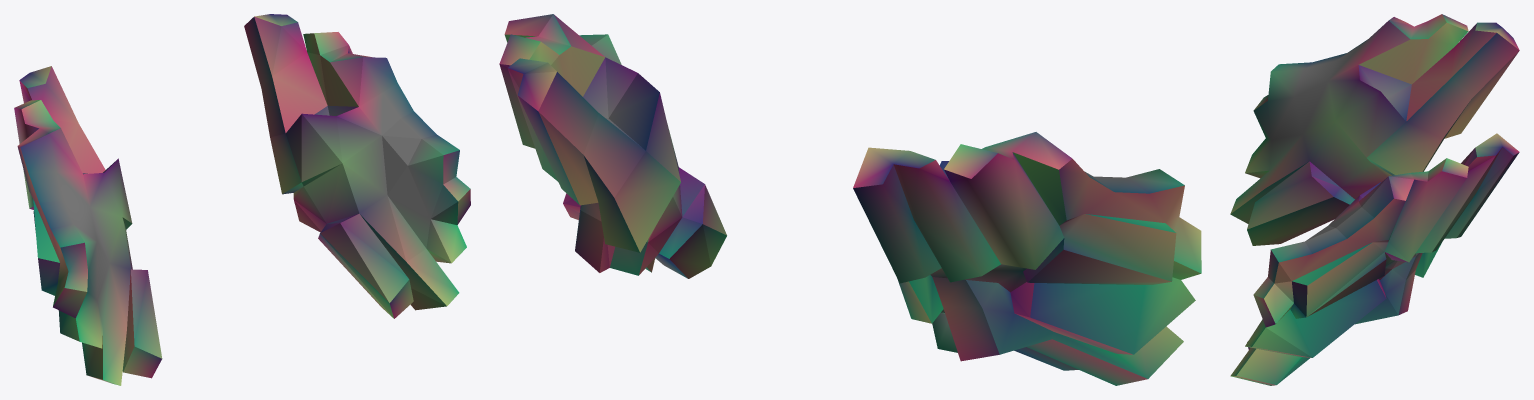
Rendered from Eff_GolemWeapon_01.fbx.
3 views of the same model, side by side, from view 1: azimuth 30°, elevation 25°; view 2: azimuth 150°, elevation 25°; view 3: azimuth 270°, elevation 25° (orthographic). The views are drawn at different scales.
Visible parts, largest first — view 1: Eff_Golem_Weapon_L, Eff_Golem_Weapon_R; view 2: Eff_Golem_Weapon_R, Eff_Golem_Weapon_L; view 3: Eff_Golem_Weapon_R, Eff_Golem_Weapon_L.
Part boxes in pixels (x1,y1,x2,y2): Eff_Golem_Weapon_L: [244, 14, 470, 318]; Eff_Golem_Weapon_R: [14, 66, 162, 385]; Eff_Golem_Weapon_R: [853, 132, 1201, 385]; Eff_Golem_Weapon_L: [499, 14, 726, 278]; Eff_Golem_Weapon_R: [1230, 14, 1519, 245]; Eff_Golem_Weapon_L: [1230, 133, 1519, 385].
Bounding box in the file's own units: 1.71 × 0.8769 × 1.01.
